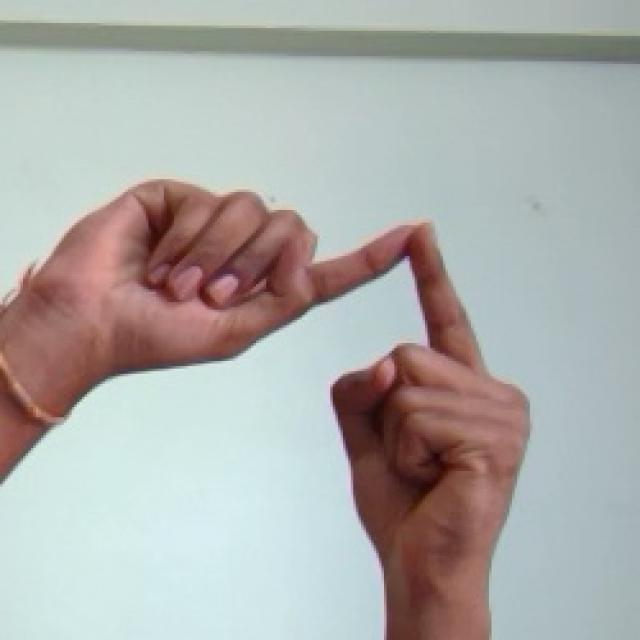Alphabet-E: (0, 182, 530, 639)
